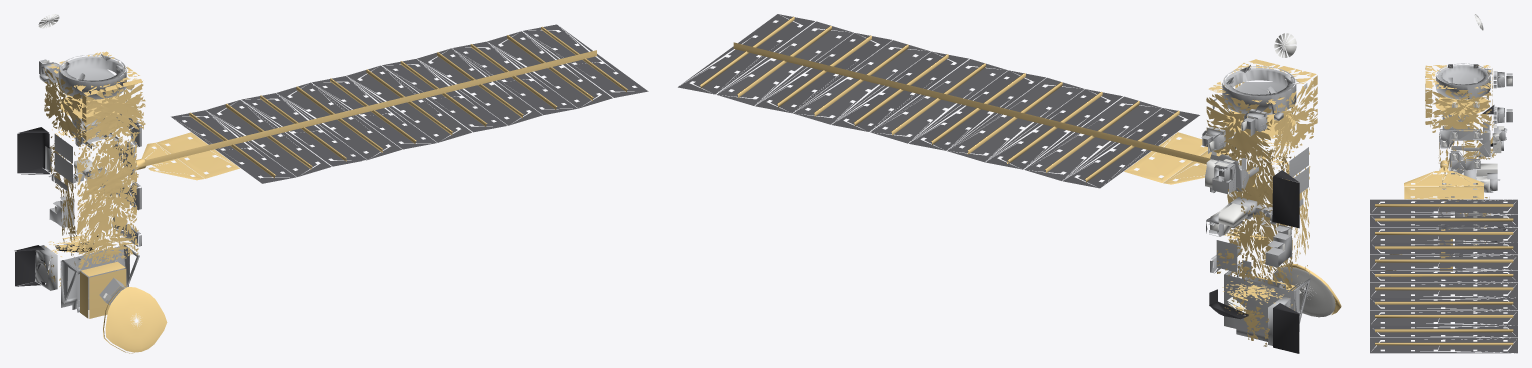
File: aqua.glb
The picture shows the model from 3 angles, left to right: view 1: azimuth 30°, elevation 25°; view 2: azimuth 150°, elevation 25°; view 3: azimuth 270°, elevation 25°; orthographic projection. The views are drawn at different scales.
Parts seen in each view (by area): view 1: Aqua_Reduced_v0014 [Aqua_Layered_02 [(unnamed)]]; view 2: Aqua_Reduced_v0014 [Aqua_Layered_02 [(unnamed)]]; view 3: Aqua_Reduced_v0014 [Aqua_Layered_02 [(unnamed)]].
Part boxes in pixels (bbox=[...]): Aqua_Reduced_v0014 [Aqua_Layered_02 [(unnamed)]]: bbox=[14, 14, 648, 353]; Aqua_Reduced_v0014 [Aqua_Layered_02 [(unnamed)]]: bbox=[678, 14, 1341, 353]; Aqua_Reduced_v0014 [Aqua_Layered_02 [(unnamed)]]: bbox=[1370, 14, 1517, 353].
Bounding box in the file's own units: 1 × 0.5288 × 0.2857.
